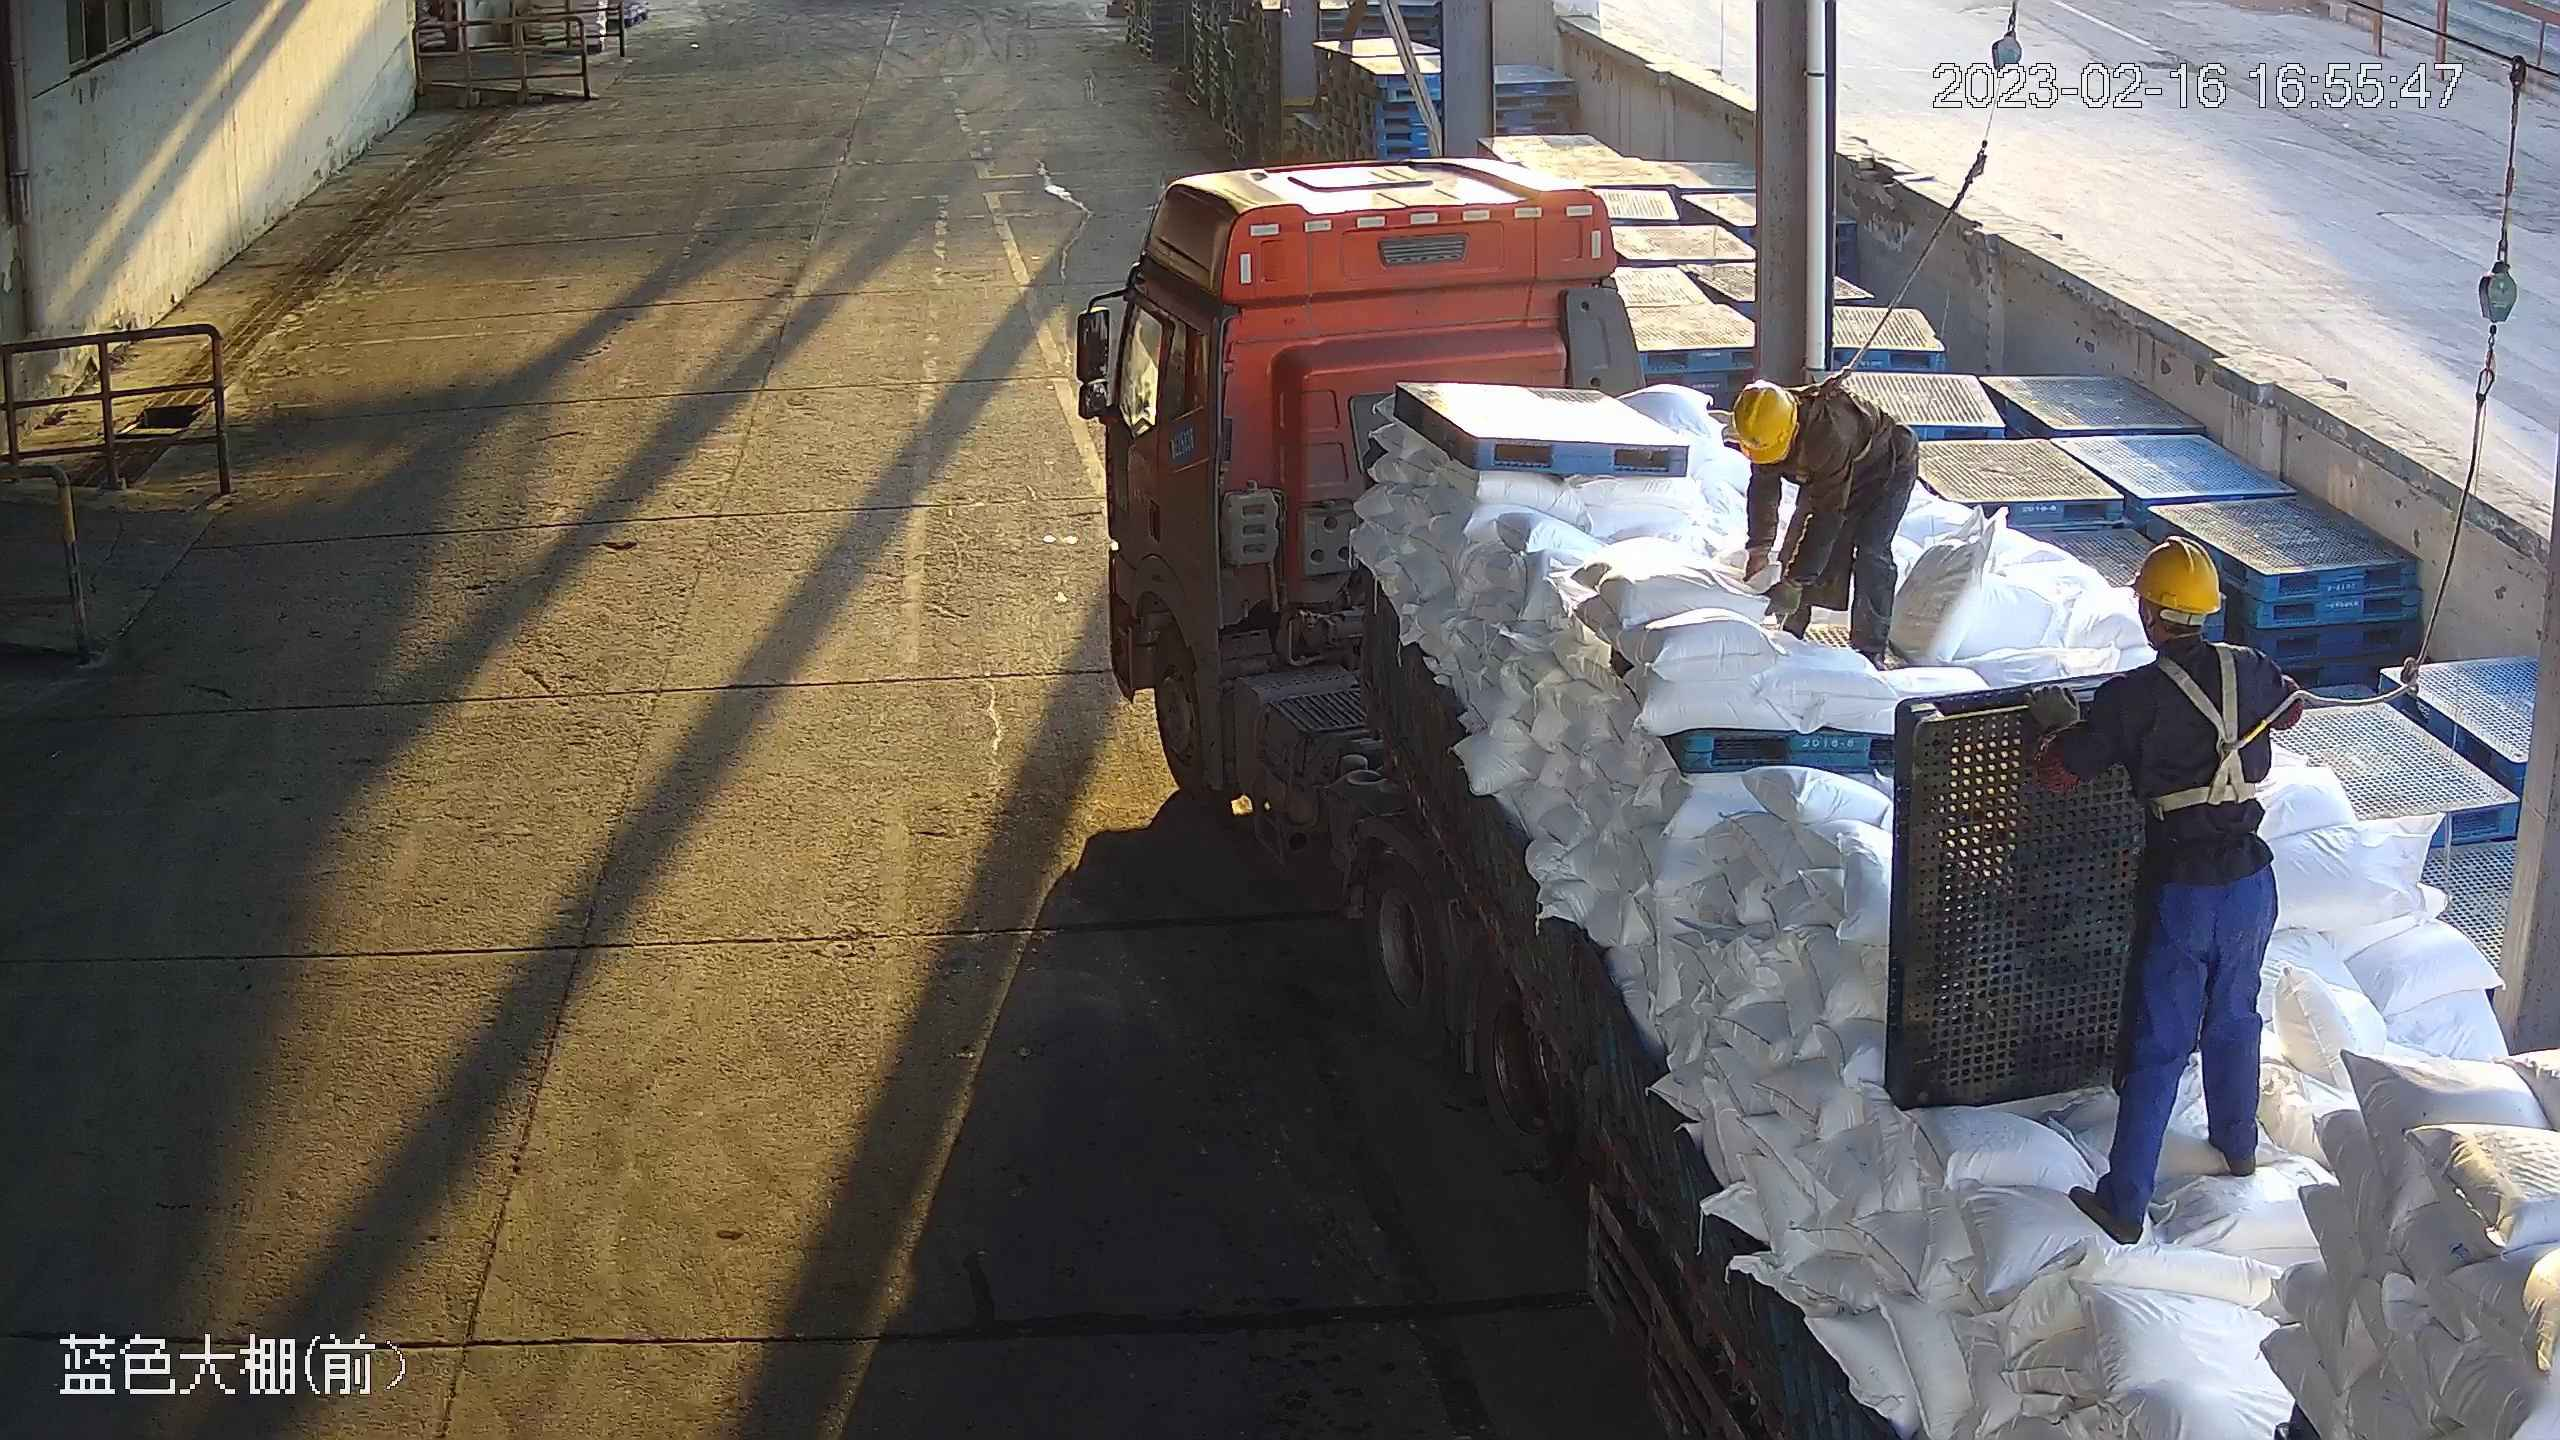belt: (2136, 641, 2277, 816), (1803, 366, 1848, 423)
head: (2077, 540, 2286, 747), (1733, 382, 1861, 490)
helmet: (2133, 536, 2223, 614), (1727, 375, 1792, 467)
people: (2073, 532, 2277, 1238), (1722, 375, 1922, 664)
truck: (1061, 167, 2560, 1440)
